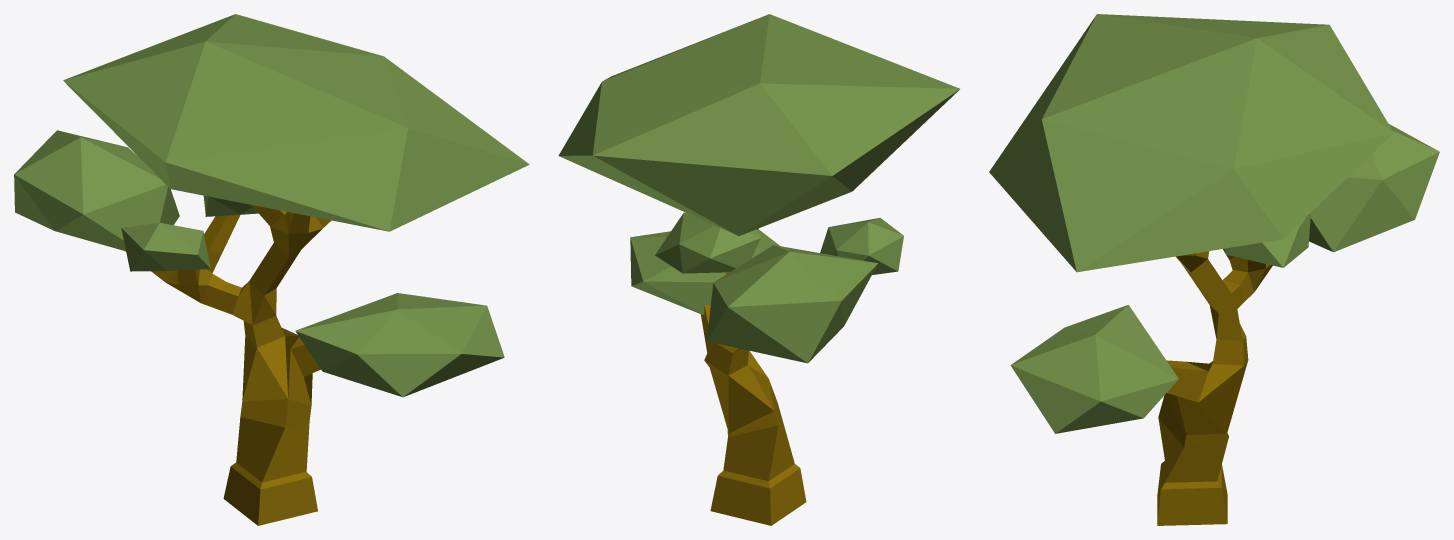
File: Olive1.fbx
3 renders of one model, left to right at view 1: azimuth 30°, elevation 25°; view 2: azimuth 150°, elevation 25°; view 3: azimuth 270°, elevation 25°, orthographic.
Visible parts, largest first — view 1: Tree1; view 2: Tree1; view 3: Tree1.
Boxes of the visible parts, x1,y1,x2,y2 form: Tree1: (14,14,529,525); Tree1: (558,14,959,525); Tree1: (989,14,1439,525).
Bounding box in the file's own units: 718 × 829 × 743.
